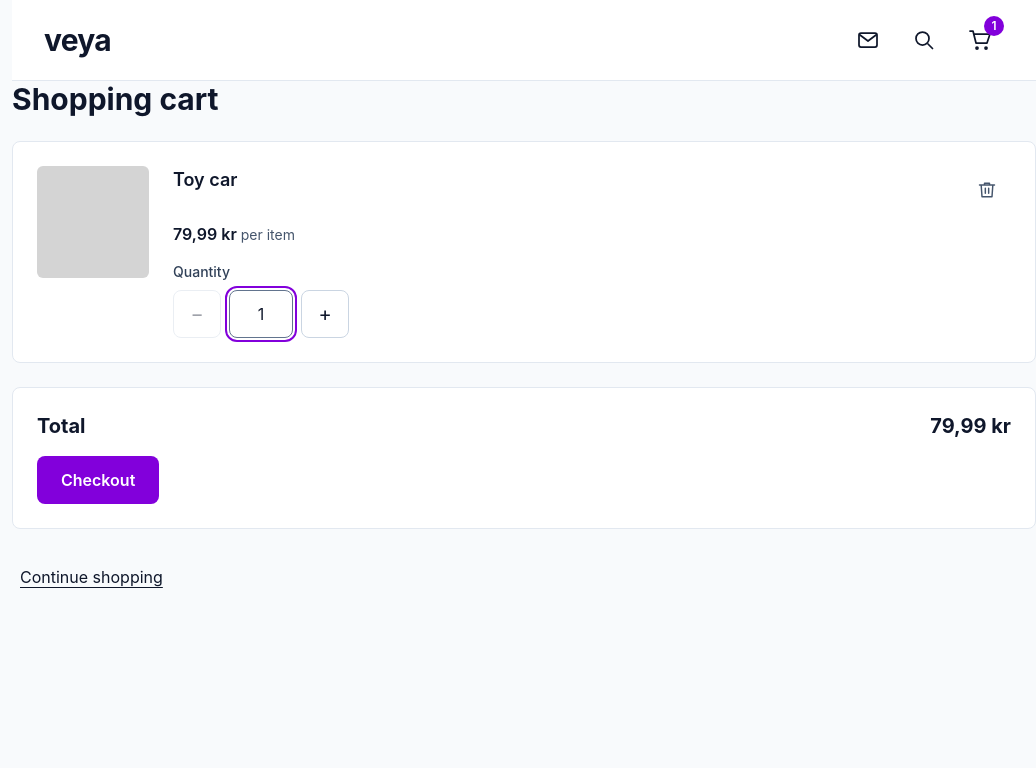
Test: uses the typed quantity before checkout without leaving the field
Replace the text in the field with "3" at x=261, y=314, box x1=229 y1=290 x2=293 y2=338
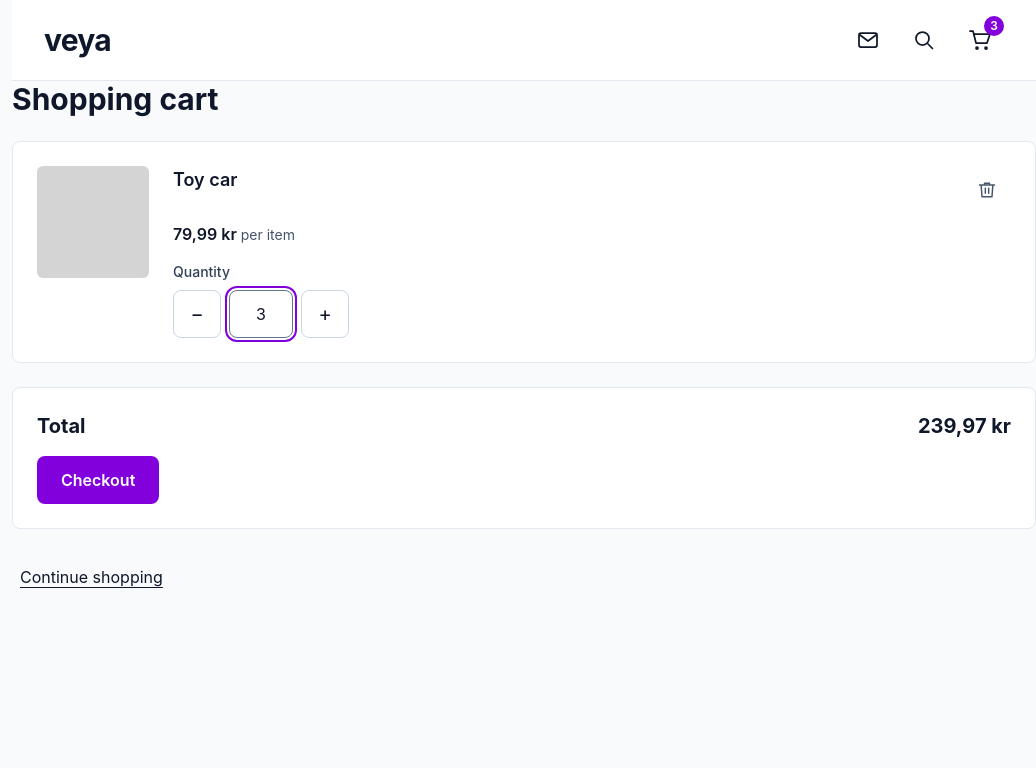
Expected: the link named "View cart, 3 items" is shown, x1=968 y1=16 x2=1004 y2=52
Expected: the text "239,97 kr" is shown, x1=918 y1=412 x2=1011 y2=440
Click the button "Checkout" at x=98, y=480, box x1=37 y1=456 x2=159 y2=504
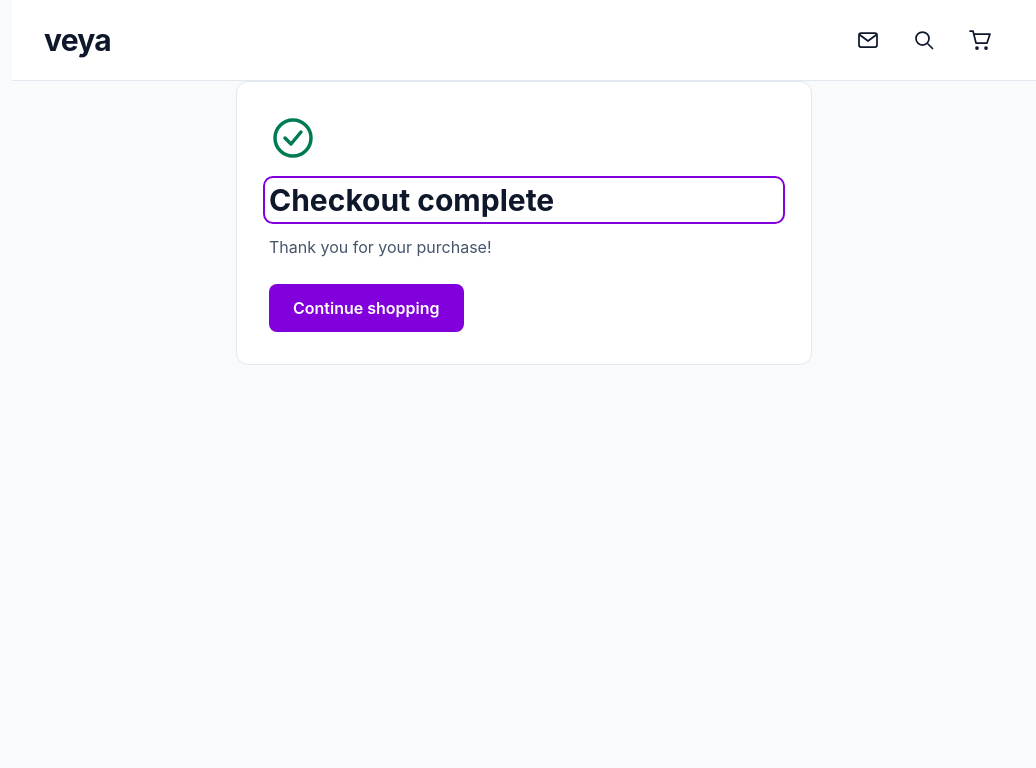
Expected: the heading "Checkout complete" is shown, x1=269 y1=182 x2=554 y2=218
